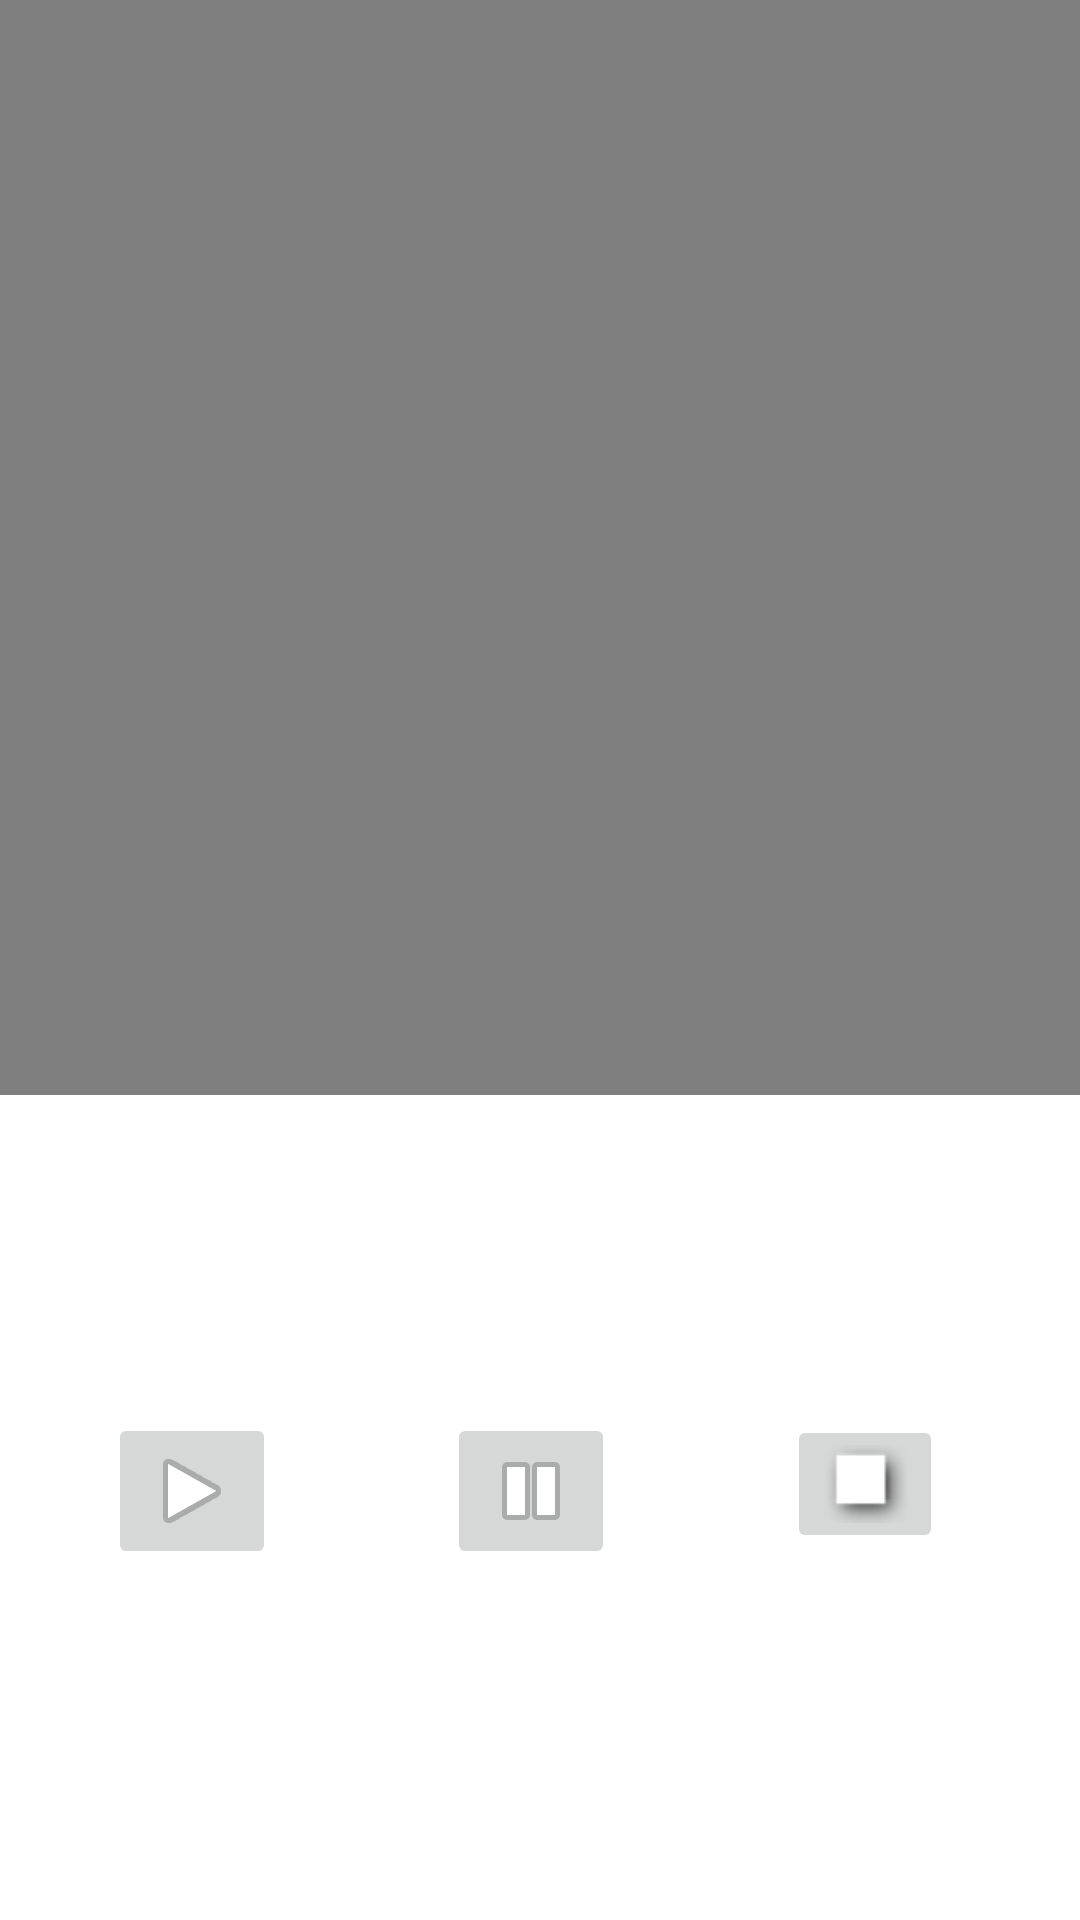

Named icons in this screenshot (1080 × 1920) and their bounding boxes, (x1, y1, x2, y2):
pause: (459, 1431, 603, 1551)
play: (120, 1431, 264, 1551)
